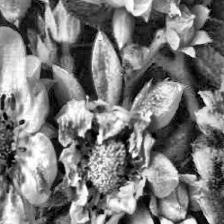Blossom Blight: (74, 118, 146, 217), (0, 92, 28, 200)
